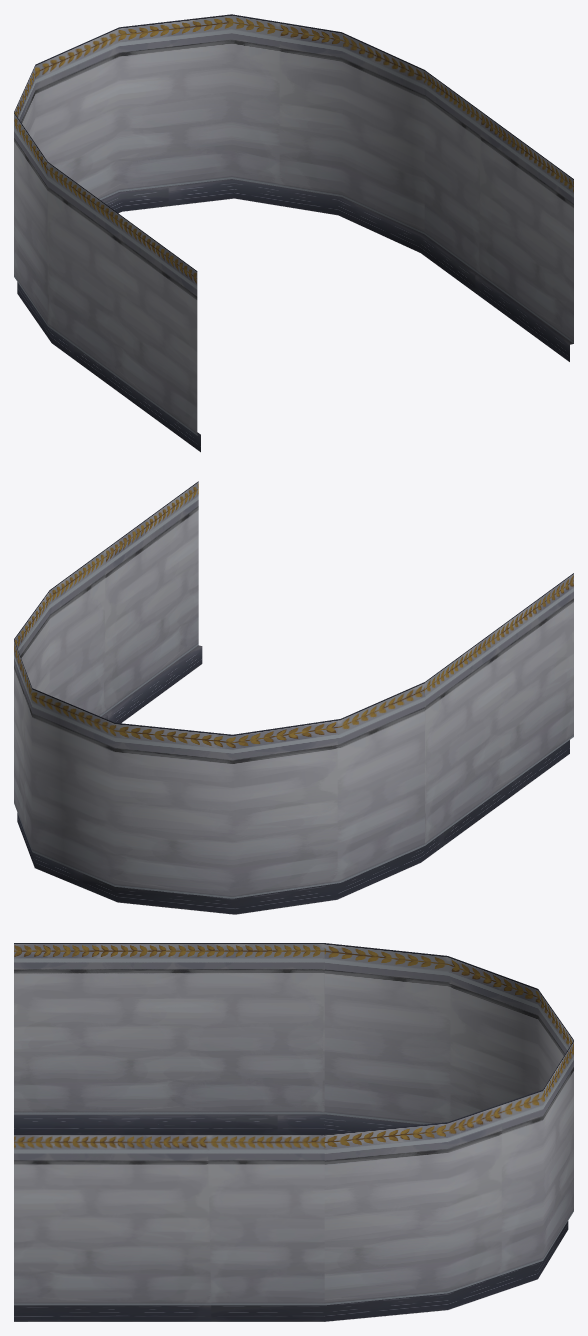
The model's file is Libra_std_Walls.fbx.
3 views of the same model, one above another, from view 1: azimuth 30°, elevation 25°; view 2: azimuth 150°, elevation 25°; view 3: azimuth 270°, elevation 25° (orthographic). The views are drawn at different scales.
Parts seen in each view (by area): view 1: polySurface1; view 2: polySurface1; view 3: polySurface1.
Boxes of the visible parts, bbox=[...] form: polySurface1: bbox=[14, 14, 573, 452]; polySurface1: bbox=[14, 481, 573, 914]; polySurface1: bbox=[14, 943, 573, 1321].
Size of the model in its own units: 18.31 by 8.48 by 22.67.
